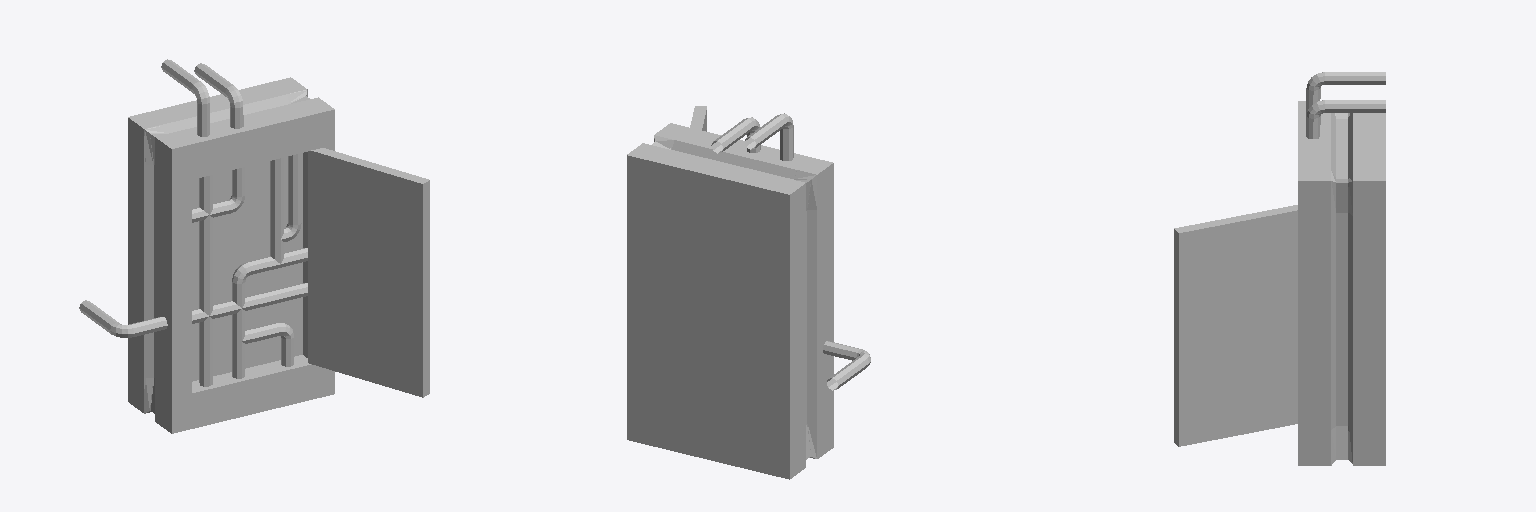
File: electricalBox_global_sj.obj
3 renders of one model, left to right at view 1: azimuth 30°, elevation 25°; view 2: azimuth 150°, elevation 25°; view 3: azimuth 270°, elevation 25°, orthographic.
Parts seen in each view (by area): view 1: ElectricalBox; view 2: ElectricalBox; view 3: ElectricalBox.
Part boxes in pixels (left/top/right/bottom): ElectricalBox: left=79, top=59, right=429, bottom=433; ElectricalBox: left=627, top=106, right=870, bottom=479; ElectricalBox: left=1174, top=72, right=1385, bottom=465.
Size of the model in its own units: 22.72 by 29.23 by 16.94.